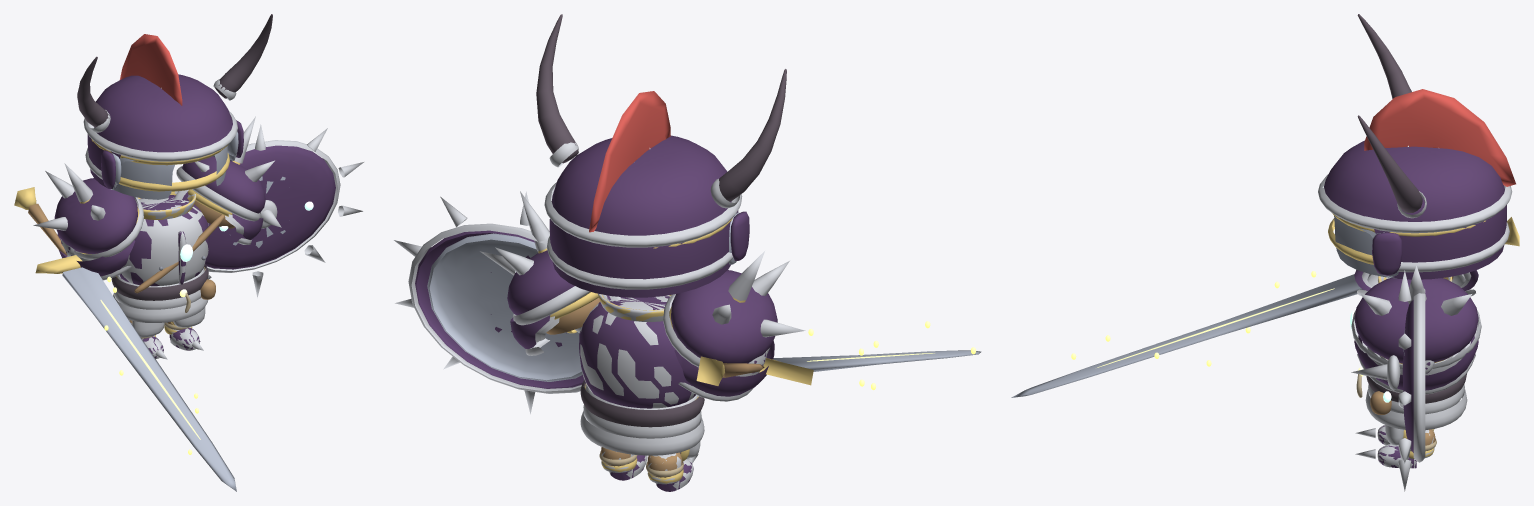
The model's file is Gear_Warrior.glb.
3 views of the same model, side by side, from view 1: azimuth 30°, elevation 25°; view 2: azimuth 150°, elevation 25°; view 3: azimuth 270°, elevation 25° (orthographic). The views are drawn at different scales.
Parts seen in each view (by area): view 1: W_Head_HornedHelm, W_Offhand_SpikedShield, W_Shoulders_Warlord_chest, W_Weapon_RuneGreatsword, W_Head_CrestHelm, W_Chest_Plate, W_Chest_WarlordPlate, W_Waist_Plate_hips, W_Waist_Warlord_spine, W_Chest_LeatherPads_spine, W_Head_OpenHelm, W_Feet_Sabatons_foot_l (+2 smaller); view 2: W_Head_HornedHelm, W_Shoulders_Warlord_chest, W_Offhand_TowerShield, W_Chest_WarlordPlate, W_Offhand_SpikedShield, W_Weapon_RuneGreatsword, W_Head_CrestHelm, W_Chest_Plate, W_Waist_Plate_hips, W_Waist_Warlord_spine, W_Shoulders_LeatherPads, W_Legs_LeatherGreaves_lowerleg_r; view 3: W_Head_HornedHelm, W_Shoulders_Warlord_chest, W_Head_CrestHelm, W_Weapon_RuneGreatsword, W_Offhand_SpikedShield, W_Waist_Plate_hips, W_Waist_Warlord_spine.
Part boxes in pixels (box(x1,y1,x2,y2)): W_Head_HornedHelm: box(77, 14, 272, 188); W_Offhand_SpikedShield: box(174, 124, 363, 297); W_Shoulders_Warlord_chest: box(33, 116, 274, 280); W_Weapon_RuneGreatsword: box(14, 187, 236, 491); W_Head_CrestHelm: box(112, 34, 238, 199); W_Chest_Plate: box(118, 191, 208, 286); W_Chest_WarlordPlate: box(117, 191, 209, 287); W_Waist_Plate_hips: box(113, 290, 208, 322); W_Waist_Warlord_spine: box(111, 264, 208, 300); W_Chest_LeatherPads_spine: box(134, 214, 224, 293); W_Head_OpenHelm: box(91, 138, 236, 189); W_Feet_Sabatons_foot_l: box(164, 325, 199, 350); W_Head_HornedHelm: box(536, 14, 786, 297); W_Shoulders_Warlord_chest: box(480, 191, 805, 401); W_Offhand_TowerShield: box(427, 233, 582, 381); W_Chest_WarlordPlate: box(579, 293, 697, 409); W_Offhand_SpikedShield: box(394, 191, 621, 414); W_Weapon_RuneGreatsword: box(696, 321, 981, 390); W_Head_CrestHelm: box(589, 91, 739, 232); W_Chest_Plate: box(580, 294, 695, 408); W_Waist_Plate_hips: box(580, 405, 704, 455); W_Waist_Warlord_spine: box(580, 380, 704, 427); W_Shoulders_LeatherPads: box(546, 298, 599, 334); W_Legs_LeatherGreaves_lowerleg_r: box(646, 452, 683, 477); W_Head_HornedHelm: box(1318, 14, 1512, 279); W_Shoulders_Warlord_chest: box(1351, 265, 1481, 394); W_Head_CrestHelm: box(1328, 89, 1515, 278); W_Weapon_RuneGreatsword: box(1011, 217, 1519, 397); W_Offhand_SpikedShield: box(1351, 270, 1425, 491); W_Waist_Plate_hips: box(1365, 384, 1467, 430); W_Waist_Warlord_spine: box(1358, 367, 1466, 403).
Size of the model in its own units: 3.08 by 2.95 by 3.48.
